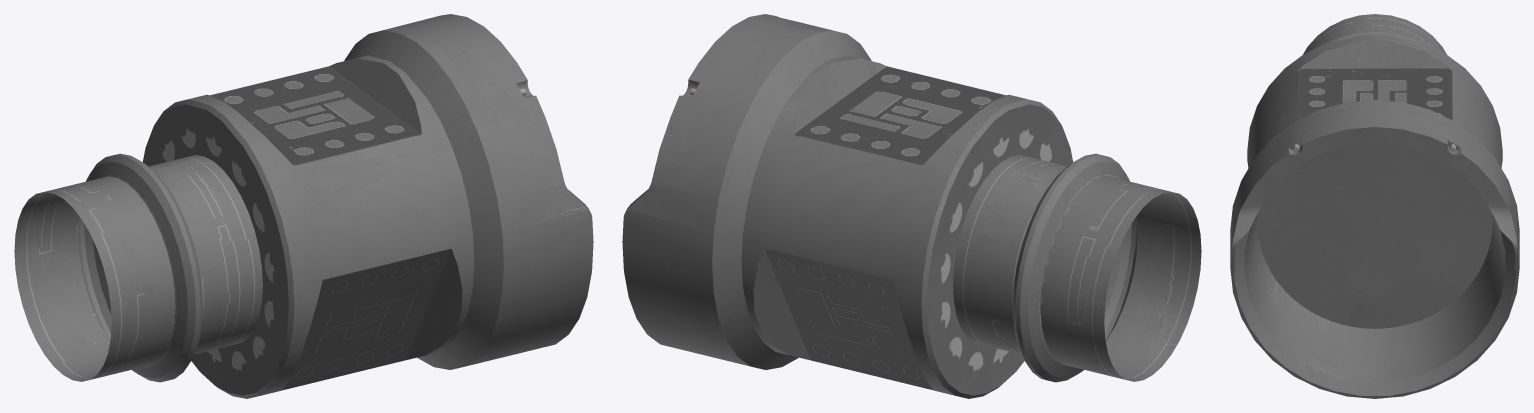
File: guard_16_u_a.glb
3 views of the same model, side by side, from view 1: azimuth 30°, elevation 25°; view 2: azimuth 150°, elevation 25°; view 3: azimuth 270°, elevation 25° (orthographic). The views are drawn at different scales.
Visible parts, largest first — view 1: guard_16_u_a_lod0; view 2: guard_16_u_a_lod0; view 3: guard_16_u_a_lod0.
Part boxes in pixels (bbox=[...]): guard_16_u_a_lod0: bbox=[14, 14, 593, 398]; guard_16_u_a_lod0: bbox=[622, 14, 1201, 398]; guard_16_u_a_lod0: bbox=[1230, 14, 1519, 398].
Size of what is drawn, in the model's own units: 0.0556 by 0.0375 by 0.0375.
Materials: 1 (1 with a texture image).
